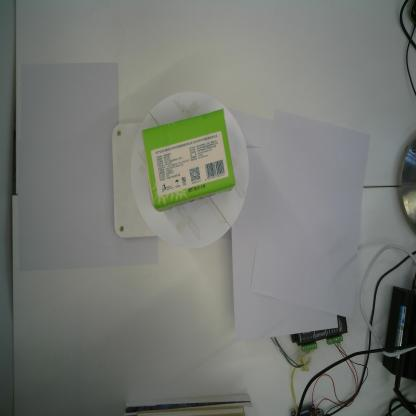Tissue: (140, 106, 237, 214)
